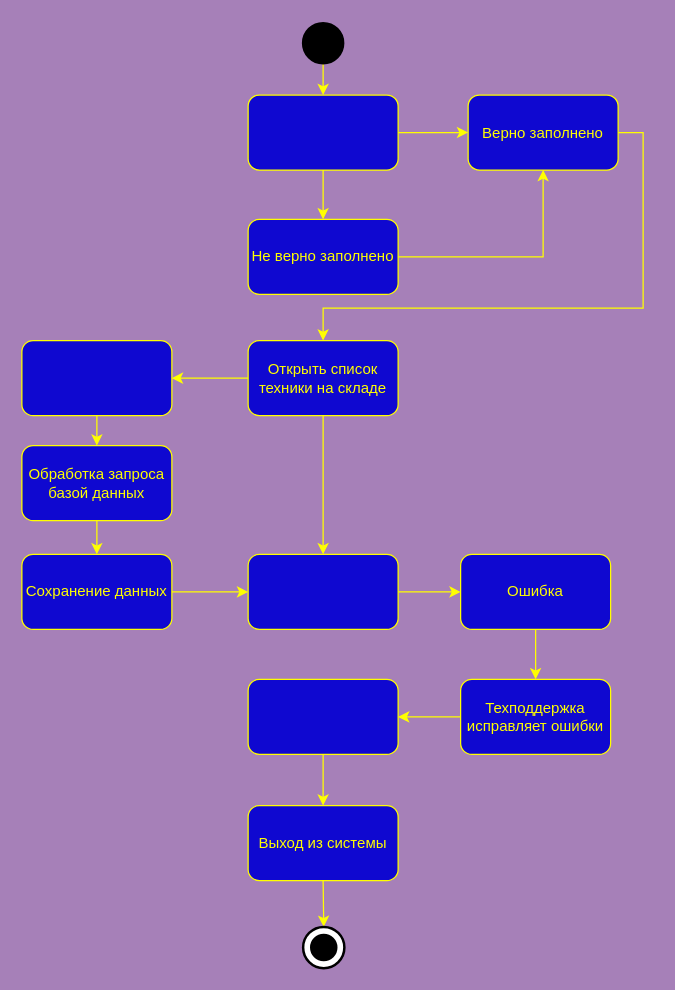
This 675x990 diagram has some shape labels left out. The shapes that lost their labels are listed below. From the top down, each one's box as (x1, y1, x2, y2) in pixels, then its label:
(247, 94, 398, 170): Открытие системы
(21, 339, 172, 416): Изменение данных
(247, 553, 398, 629): Просмотр списка
(247, 678, 398, 754): Оповищение пользователя
